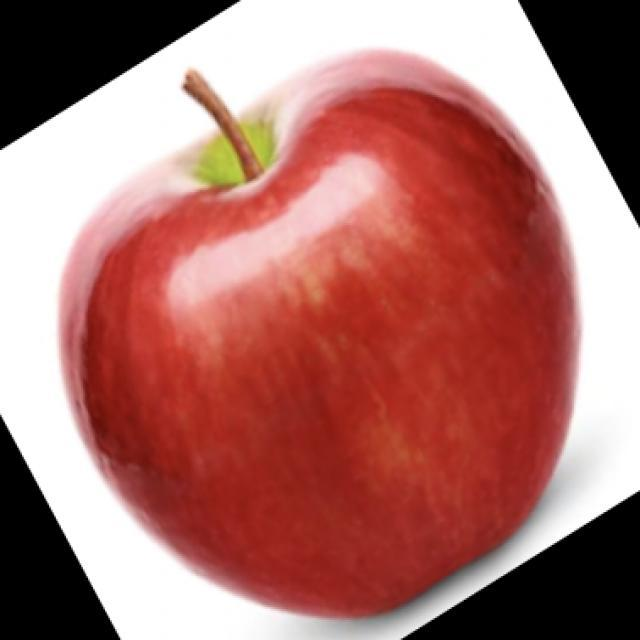Fresh Apple: (90, 44, 593, 614)
